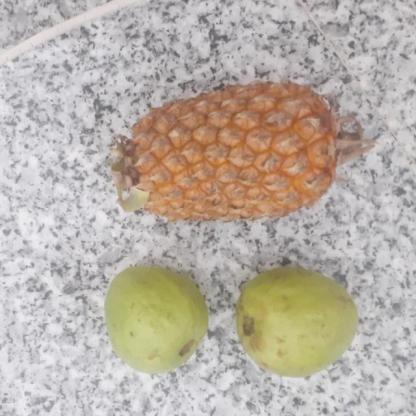guava: (231, 264, 358, 376), (100, 269, 210, 372)
pineapple: (112, 78, 353, 224)
